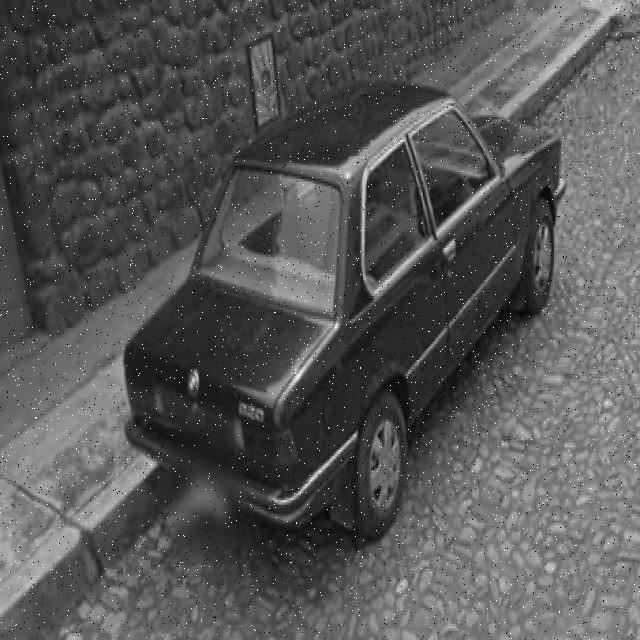Sedan: (121, 81, 567, 546)
